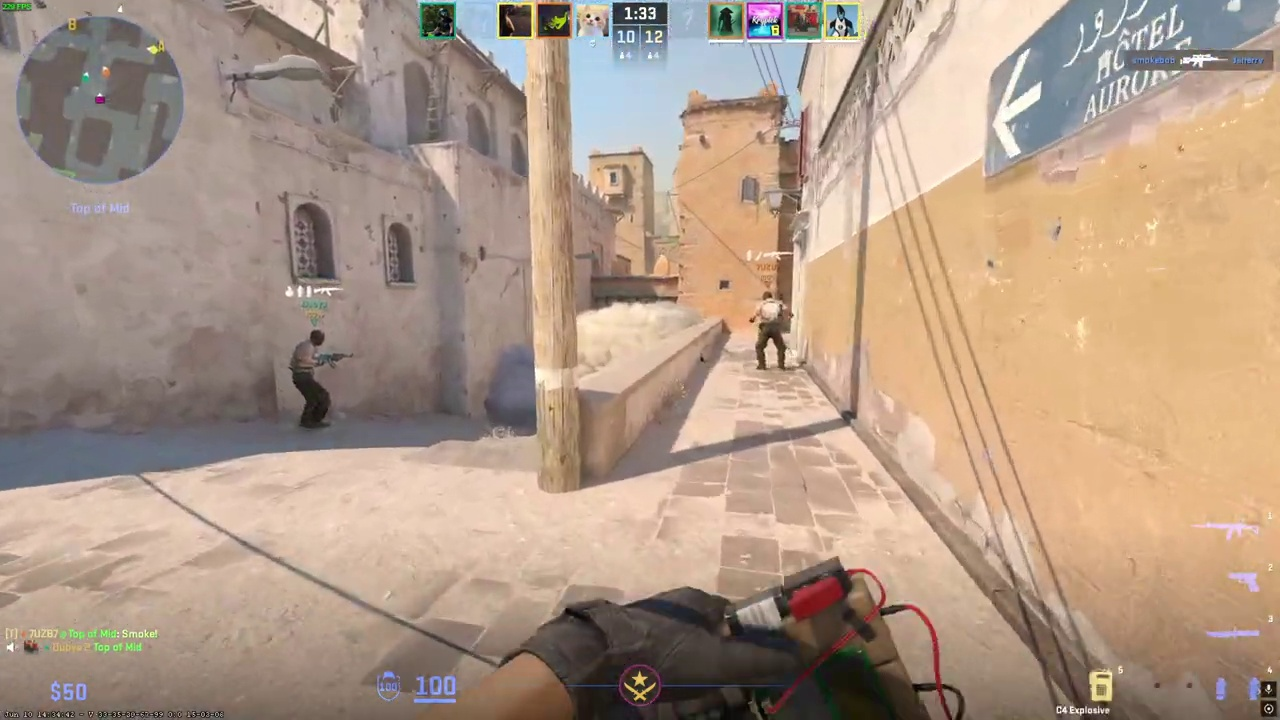Terrorist: (288, 329, 336, 429), (751, 291, 790, 371)
